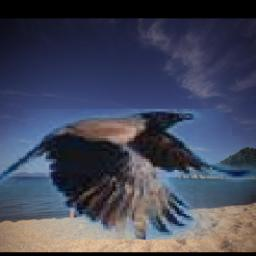Crow: (0, 110, 256, 240)
